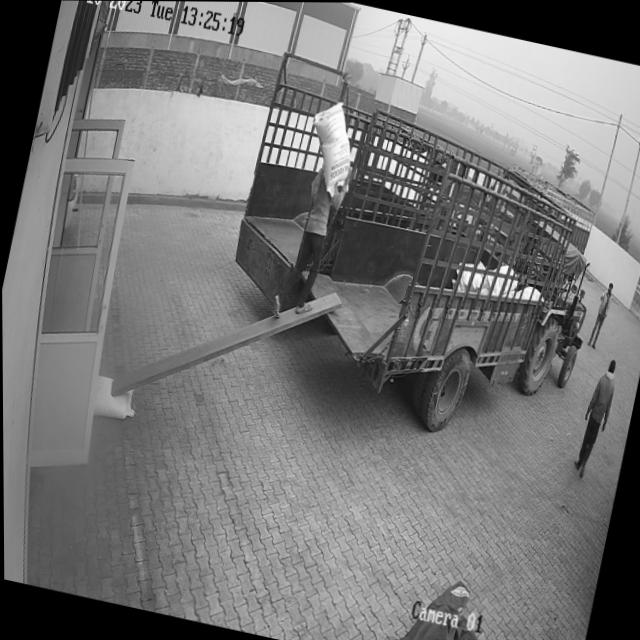sack: (298, 94, 363, 198), (89, 373, 139, 424)
